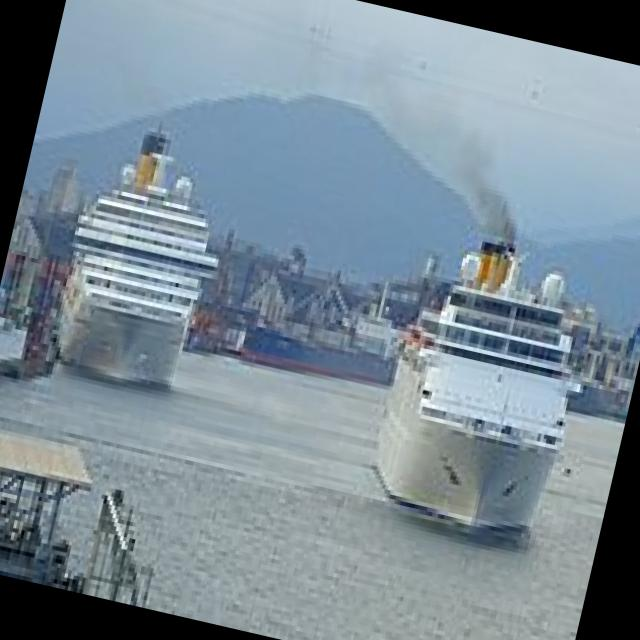boat: (357, 223, 611, 556), (45, 125, 234, 392)
